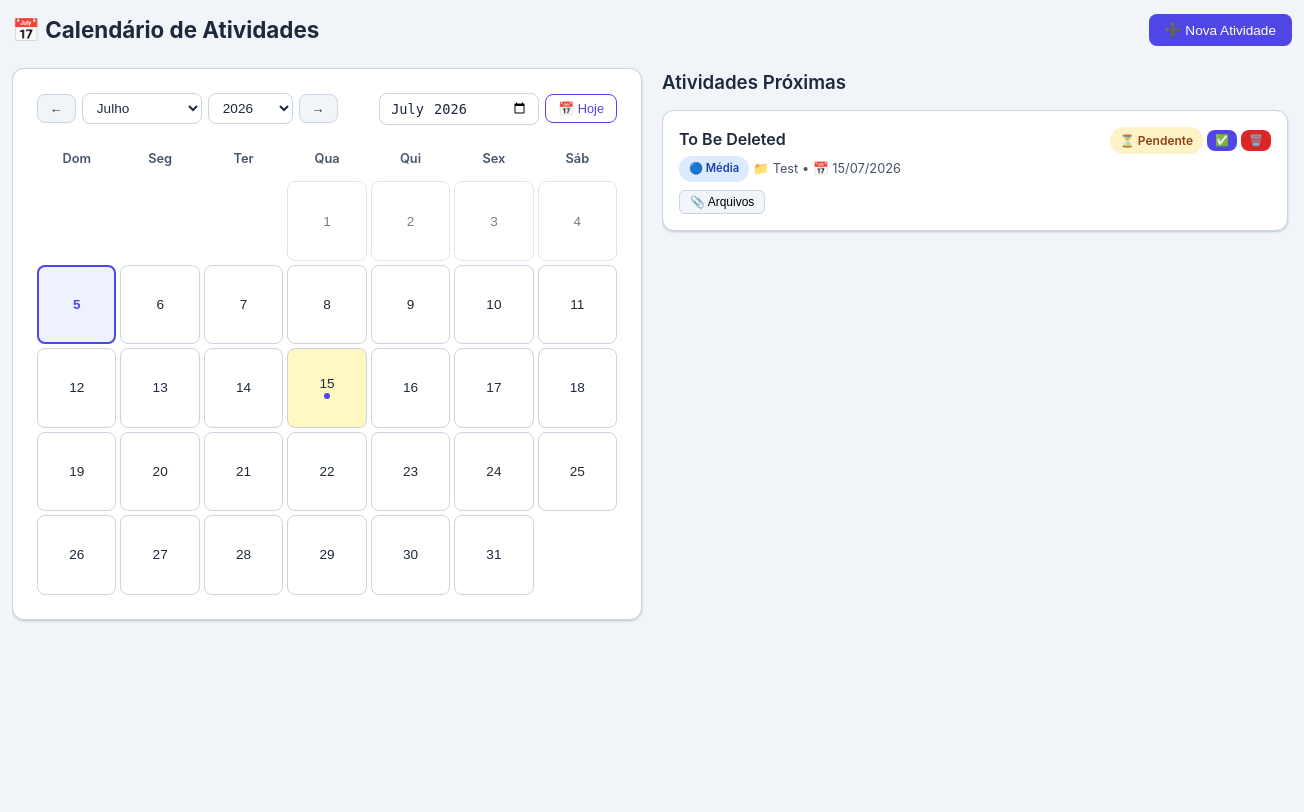
Scenario: CalendarView › deletes assignment via localStorage fallback when confirm is accepted
Expected: the text "To Be Deleted" is shown, [679,129,786,149]
# Click delete button
Click the button titled "Excluir atividade" at (1256, 140), box [1241,130,1271,151]
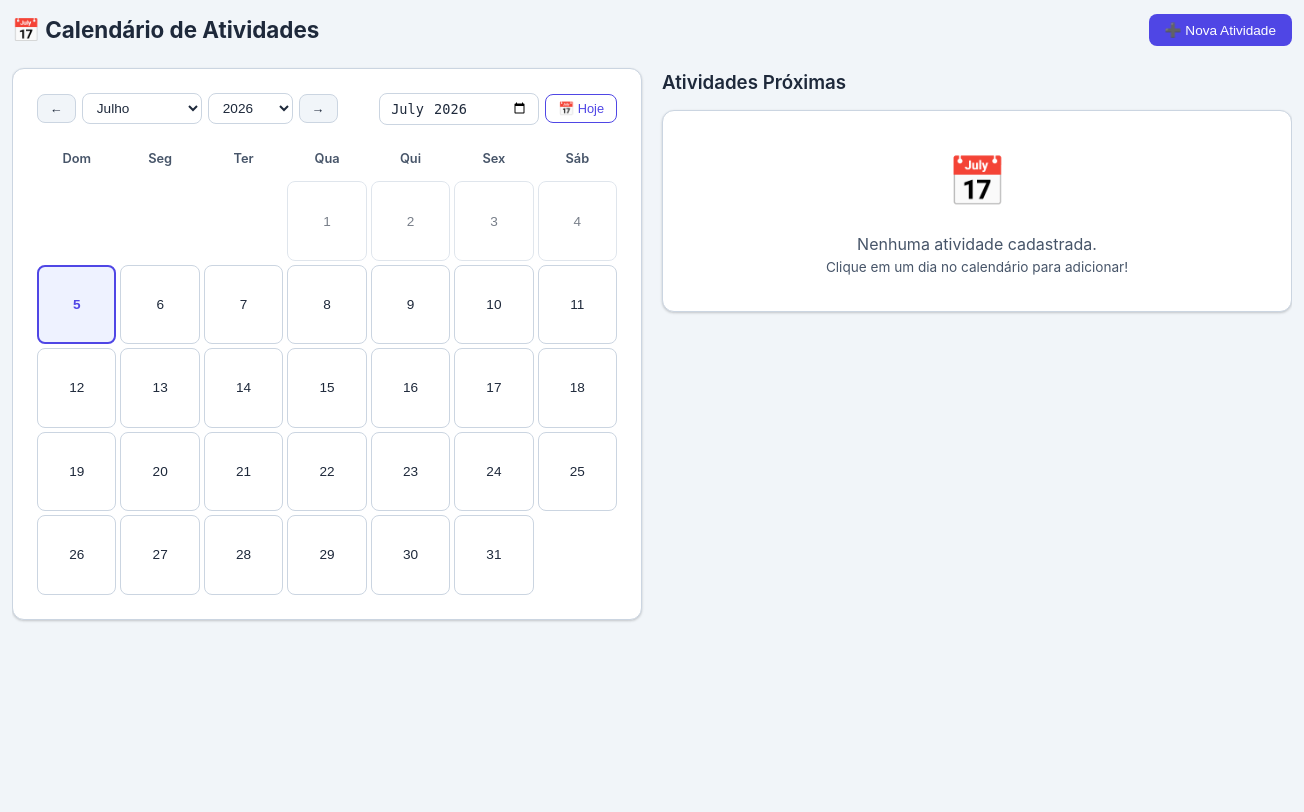
Expected: the text "To Be Deleted" is gone
